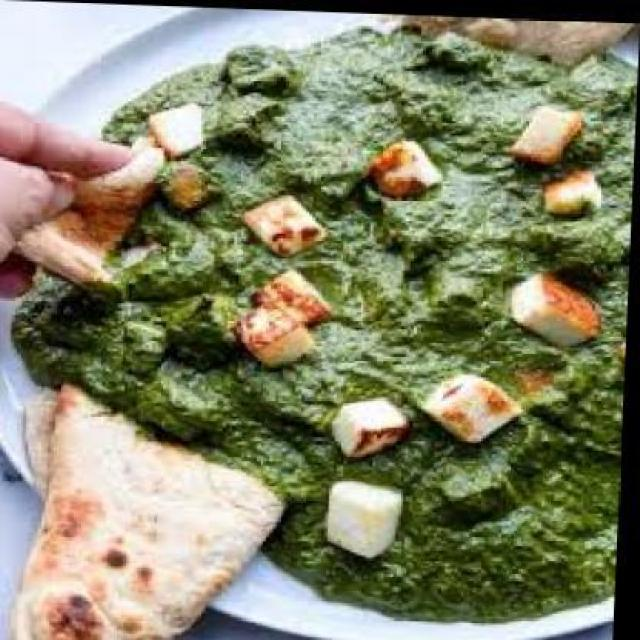palak_paneer: (6, 12, 640, 625)
